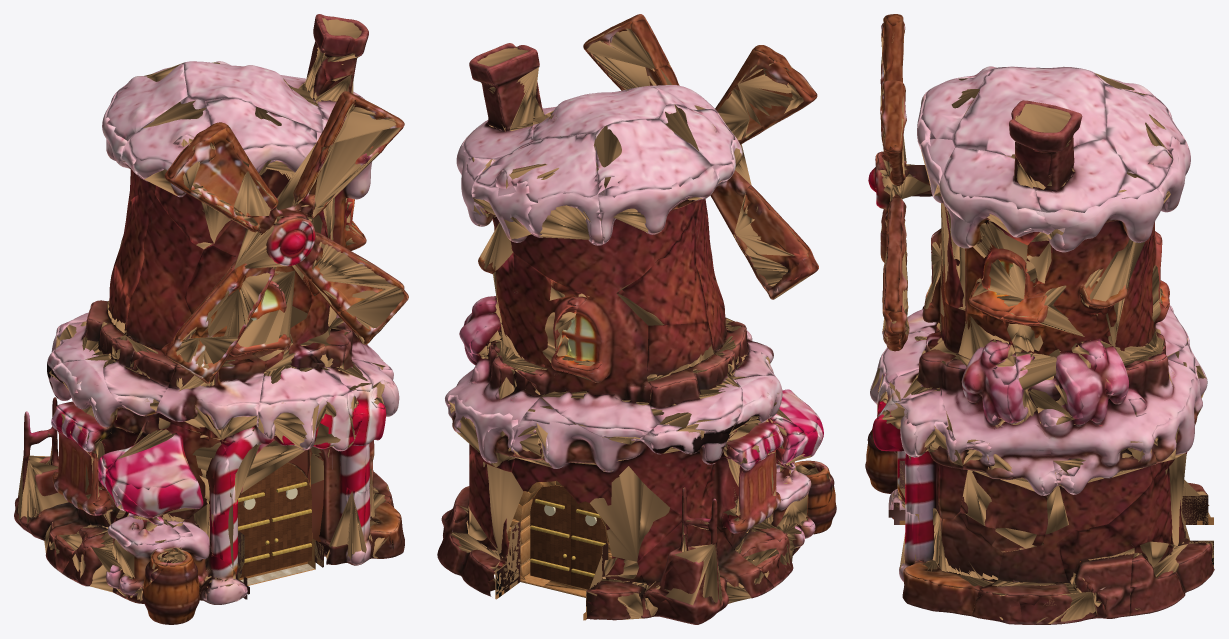
File: GIN_HD_GingerbreadWindmill_Fractured.fbx
3 views of the same model, side by side, from view 1: azimuth 30°, elevation 25°; view 2: azimuth 150°, elevation 25°; view 3: azimuth 270°, elevation 25° (orthographic). The views are drawn at different scales.
Parts seen in each view (by area): view 1: GIN_HD_GingerbreadWindmill_Frag_31, GIN_HD_GingerbreadWindmill_Frag_15, GIN_HD_GingerbreadWindmill_Frag_39, GIN_HD_GingerbreadWindmill_Frag_05, GIN_HD_GingerbreadWindmill_Frag_29, GIN_HD_GingerbreadWindmill_Frag_42, GIN_HD_GingerbreadWindmill_Frag_41, GIN_HD_GingerbreadWindmill_Frag_13, GIN_HD_GingerbreadWindmill_Frag_11, GIN_HD_GingerbreadWindmill_Frag_08, GIN_HD_GingerbreadWindmill_Frag_24, GIN_HD_GingerbreadWindmill_Frag_32 (+23 smaller); view 2: GIN_HD_GingerbreadWindmill_Frag_22, GIN_HD_GingerbreadWindmill_Frag_10, GIN_HD_GingerbreadWindmill_Frag_23, GIN_HD_GingerbreadWindmill_Frag_02, GIN_HD_GingerbreadWindmill_Frag_21, GIN_HD_GingerbreadWindmill_Frag_45, GIN_HD_GingerbreadWindmill_Frag_01, GIN_HD_GingerbreadWindmill_Frag_09, GIN_HD_GingerbreadWindmill_Frag_40, GIN_HD_GingerbreadWindmill_Frag_13, GIN_HD_GingerbreadWindmill_Frag_38, GIN_HD_GingerbreadWindmill_Frag_27 (+22 smaller); view 3: GIN_HD_GingerbreadWindmill_Frag_30, GIN_HD_GingerbreadWindmill_Frag_28, GIN_HD_GingerbreadWindmill_Frag_37, GIN_HD_GingerbreadWindmill_Frag_38, GIN_HD_GingerbreadWindmill_Frag_33, GIN_HD_GingerbreadWindmill_Frag_25, GIN_HD_GingerbreadWindmill_Frag_50, GIN_HD_GingerbreadWindmill_Frag_29, GIN_HD_GingerbreadWindmill_Frag_16, GIN_HD_GingerbreadWindmill_Frag_43, GIN_HD_GingerbreadWindmill_Frag_36, GIN_HD_GingerbreadWindmill_Frag_22 (+20 smaller).
Boxes of the visible parts, x1,y1,x2,y2 form: GIN_HD_GingerbreadWindmill_Frag_31: (106, 417, 232, 536); GIN_HD_GingerbreadWindmill_Frag_15: (205, 97, 321, 216); GIN_HD_GingerbreadWindmill_Frag_39: (256, 342, 363, 451); GIN_HD_GingerbreadWindmill_Frag_05: (62, 473, 180, 598); GIN_HD_GingerbreadWindmill_Frag_29: (269, 468, 404, 578); GIN_HD_GingerbreadWindmill_Frag_42: (121, 96, 232, 249); GIN_HD_GingerbreadWindmill_Frag_41: (103, 297, 191, 420); GIN_HD_GingerbreadWindmill_Frag_13: (115, 190, 203, 301); GIN_HD_GingerbreadWindmill_Frag_11: (156, 347, 265, 439); GIN_HD_GingerbreadWindmill_Frag_08: (184, 245, 314, 361); GIN_HD_GingerbreadWindmill_Frag_24: (213, 215, 316, 322); GIN_HD_GingerbreadWindmill_Frag_32: (50, 360, 145, 475); GIN_HD_GingerbreadWindmill_Frag_22: (471, 133, 609, 296); GIN_HD_GingerbreadWindmill_Frag_10: (594, 118, 718, 292); GIN_HD_GingerbreadWindmill_Frag_23: (536, 291, 657, 444); GIN_HD_GingerbreadWindmill_Frag_02: (637, 509, 774, 624); GIN_HD_GingerbreadWindmill_Frag_21: (647, 322, 742, 434); GIN_HD_GingerbreadWindmill_Frag_45: (511, 397, 630, 503); GIN_HD_GingerbreadWindmill_Frag_01: (492, 252, 589, 384); GIN_HD_GingerbreadWindmill_Frag_09: (701, 448, 795, 587); GIN_HD_GingerbreadWindmill_Frag_40: (628, 424, 729, 543); GIN_HD_GingerbreadWindmill_Frag_13: (616, 208, 715, 325); GIN_HD_GingerbreadWindmill_Frag_38: (458, 43, 539, 159); GIN_HD_GingerbreadWindmill_Frag_27: (448, 345, 540, 472); GIN_HD_GingerbreadWindmill_Frag_30: (1024, 169, 1163, 314); GIN_HD_GingerbreadWindmill_Frag_28: (999, 298, 1128, 426); GIN_HD_GingerbreadWindmill_Frag_37: (1044, 394, 1156, 530); GIN_HD_GingerbreadWindmill_Frag_38: (1009, 100, 1127, 229); GIN_HD_GingerbreadWindmill_Frag_33: (960, 423, 1068, 534); GIN_HD_GingerbreadWindmill_Frag_25: (941, 312, 1039, 447); GIN_HD_GingerbreadWindmill_Frag_50: (952, 66, 1106, 157); GIN_HD_GingerbreadWindmill_Frag_29: (899, 508, 1003, 616); GIN_HD_GingerbreadWindmill_Frag_16: (872, 388, 967, 519); GIN_HD_GingerbreadWindmill_Frag_43: (971, 543, 1107, 624); GIN_HD_GingerbreadWindmill_Frag_36: (939, 147, 1054, 245); GIN_HD_GingerbreadWindmill_Frag_22: (1103, 83, 1190, 239).
Size of the model in its own units: 2358 by 3472 by 2180.
